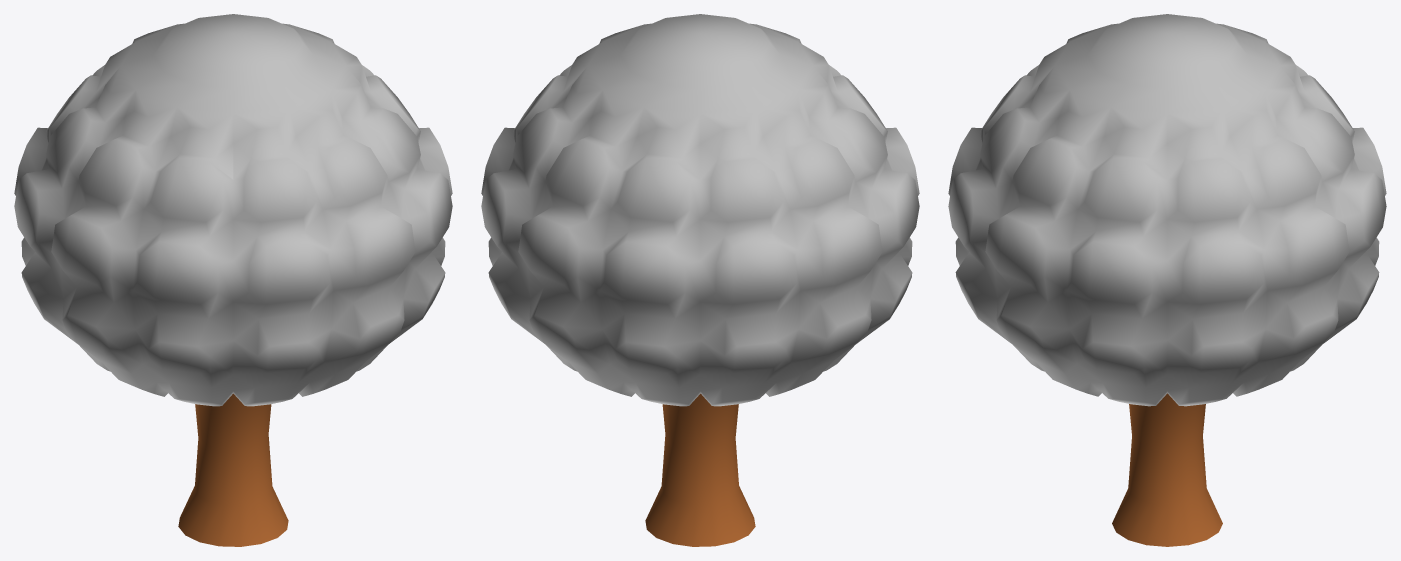
Rendered from YangTree.fbx.
3 views of the same model, side by side, from view 1: azimuth 30°, elevation 25°; view 2: azimuth 150°, elevation 25°; view 3: azimuth 270°, elevation 25° (orthographic).
Visible parts, largest first — view 1: YangTree_LOD0; view 2: YangTree_LOD0; view 3: YangTree_LOD0.
Boxes of the visible parts, <box> form: YangTree_LOD0: <box>14,14,452,546</box>; YangTree_LOD0: <box>481,14,919,546</box>; YangTree_LOD0: <box>948,14,1386,546</box>.
Size of what is drawn, in the model's own units: 371 by 457 by 371.
